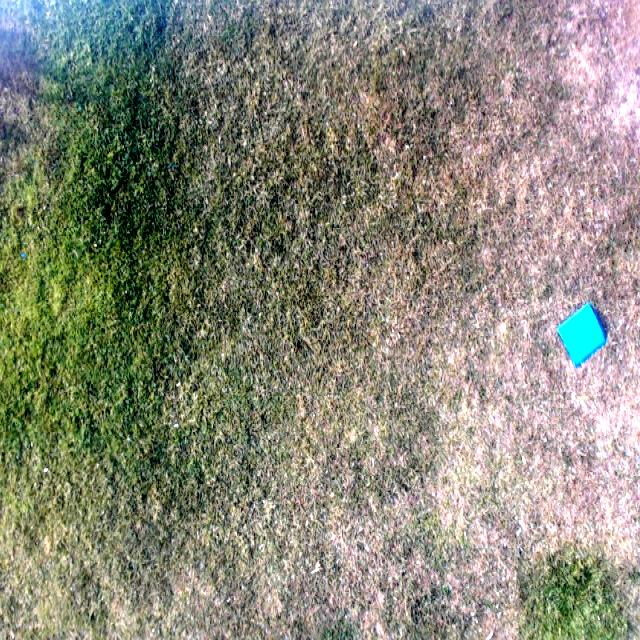blue_square: (558, 304, 606, 368)
